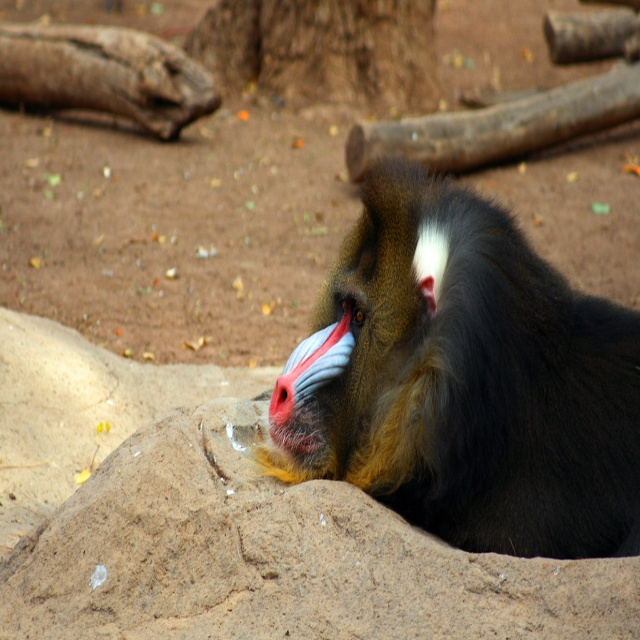Monkey: (342, 163, 640, 592)
